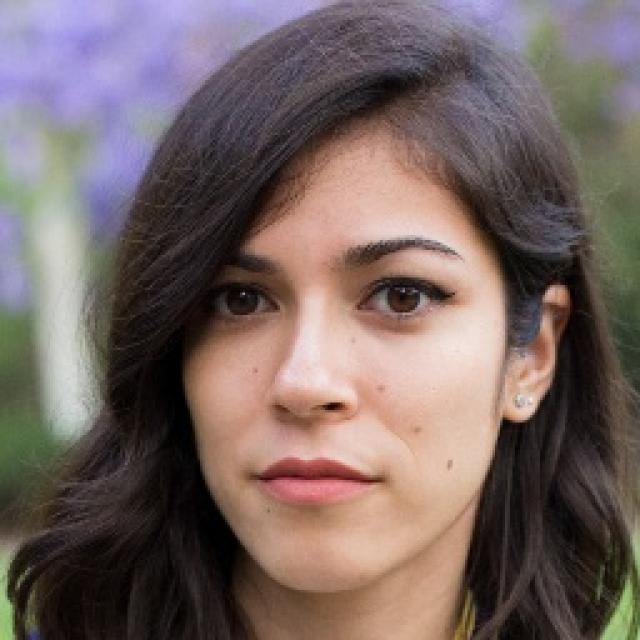earlobe: (501, 282, 570, 423)
